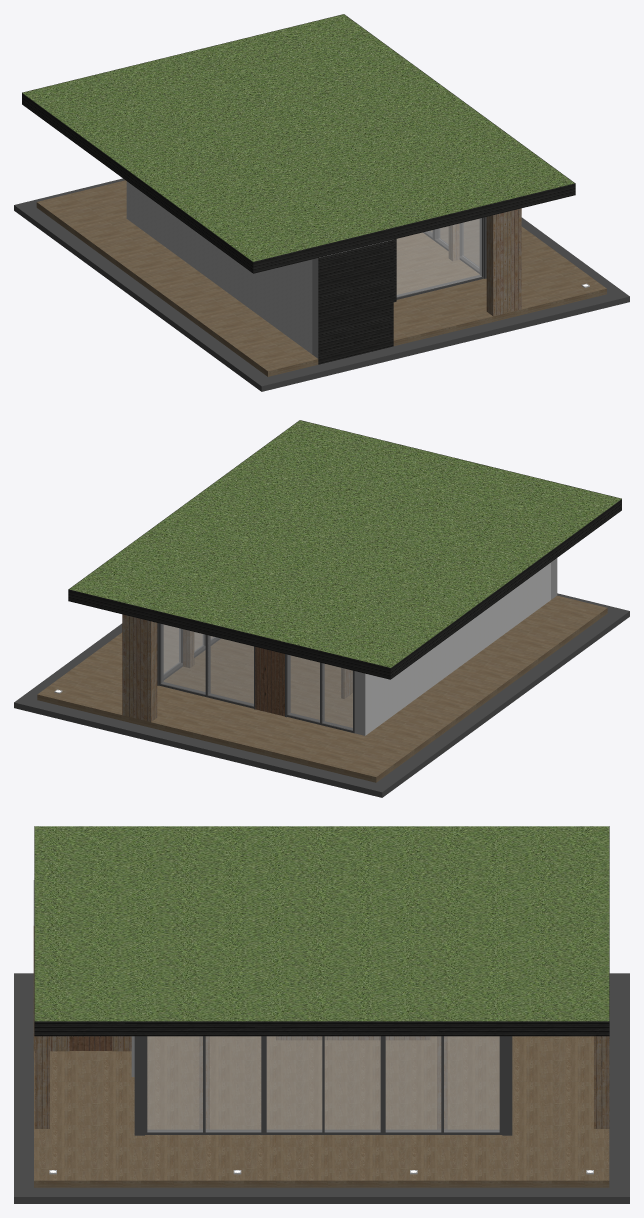
The model's file is Module1.glb.
The picture shows the model from 3 angles, top to bottom: view 1: azimuth 30°, elevation 25°; view 2: azimuth 150°, elevation 25°; view 3: azimuth 270°, elevation 25°; orthographic projection. The views are drawn at different scales.
Visible parts, largest first — view 1: Трава, Пол отделка светлая, Отделка перекрытия, Черный, Штукатурка, Стекло, Деревянная отделка светлая, Стена по умолчанию; view 2: Трава, Пол отделка светлая, Черный, Стекло, Штукатурка, Отделка перекрытия, Деревянная отделка светлая, Отделка дверей, Стена по умолчанию; view 3: Трава, Пол отделка светлая, Стекло, Черный, Отделка перекрытия, Деревянная отделка светлая, Отделка дверей.
Part boxes in pixels (x1,y1,x2,y2): Трава: [22, 14, 574, 261]; Пол отделка светлая: [36, 180, 606, 376]; Отделка перекрытия: [22, 14, 575, 364]; Черный: [14, 178, 629, 391]; Штукатурка: [126, 181, 312, 354]; Стекло: [397, 218, 481, 296]; Деревянная отделка светлая: [448, 208, 521, 315]; Стена по умолчанию: [312, 240, 391, 358]; Трава: [69, 420, 621, 667]; Пол отделка светлая: [37, 595, 607, 782]; Черный: [14, 593, 629, 797]; Стекло: [161, 624, 352, 729]; Штукатурка: [365, 562, 550, 735]; Отделка перекрытия: [68, 420, 621, 679]; Деревянная отделка светлая: [122, 614, 352, 721]; Отделка дверей: [255, 647, 284, 716]; Стена по умолчанию: [354, 558, 557, 735]; Трава: [34, 826, 609, 1021]; Пол отделка светлая: [34, 1036, 609, 1187]; Стекло: [147, 1036, 499, 1131]; Черный: [14, 973, 629, 1203]; Отделка перекрытия: [34, 826, 609, 1036]; Деревянная отделка светлая: [33, 926, 609, 1129]; Отделка дверей: [69, 1036, 112, 1050].
Bounding box in the file's own units: 10.31 × 3.31 × 12.
Materials: 12 (7 with a texture image).
